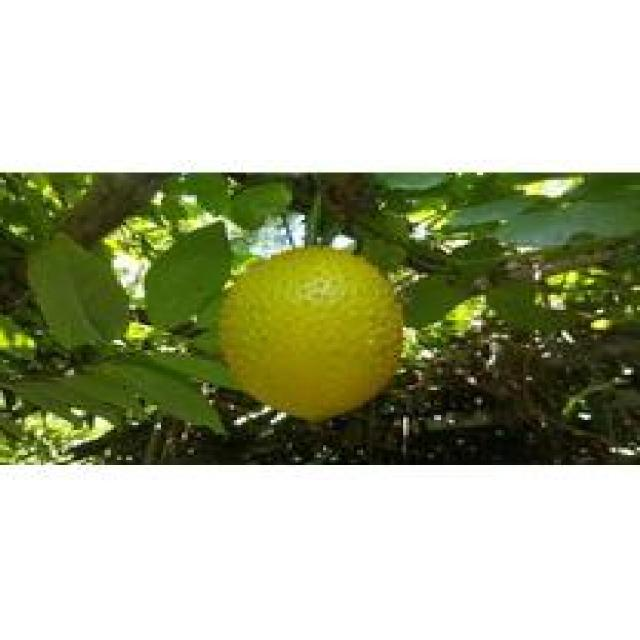Fruit: (203, 235, 415, 435)
